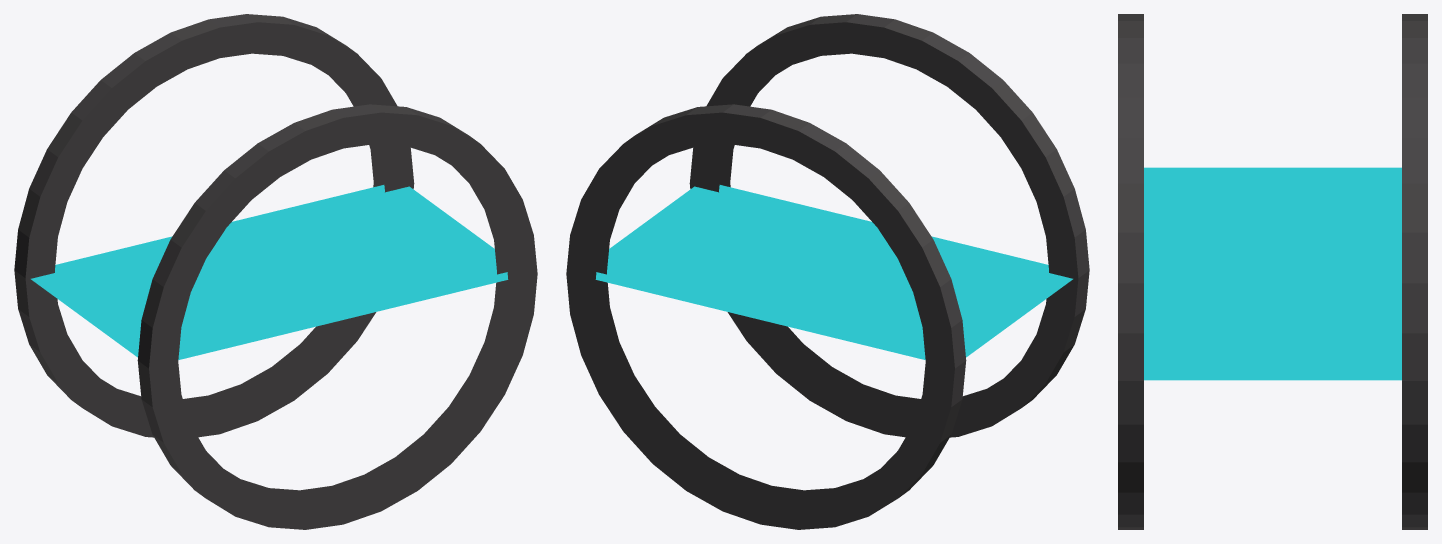
Rendered from reflector.fbx.
3 views of the same model, side by side, from view 1: azimuth 30°, elevation 25°; view 2: azimuth 150°, elevation 25°; view 3: azimuth 270°, elevation 25° (orthographic). The views are drawn at different scales.
Parts seen in each view (by area): view 1: edges, mirror; view 2: edges, mirror; view 3: mirror, edges.
Boxes of the visible parts, x1,y1,x2,y2 form: edges: (14,14,537,529); mirror: (31,185,508,359); edges: (566,14,1089,529); mirror: (595,185,1072,359); mirror: (1144,167,1401,380); edges: (1118,14,1427,529).
Size of the model in its own units: 60 by 60 by 36.
